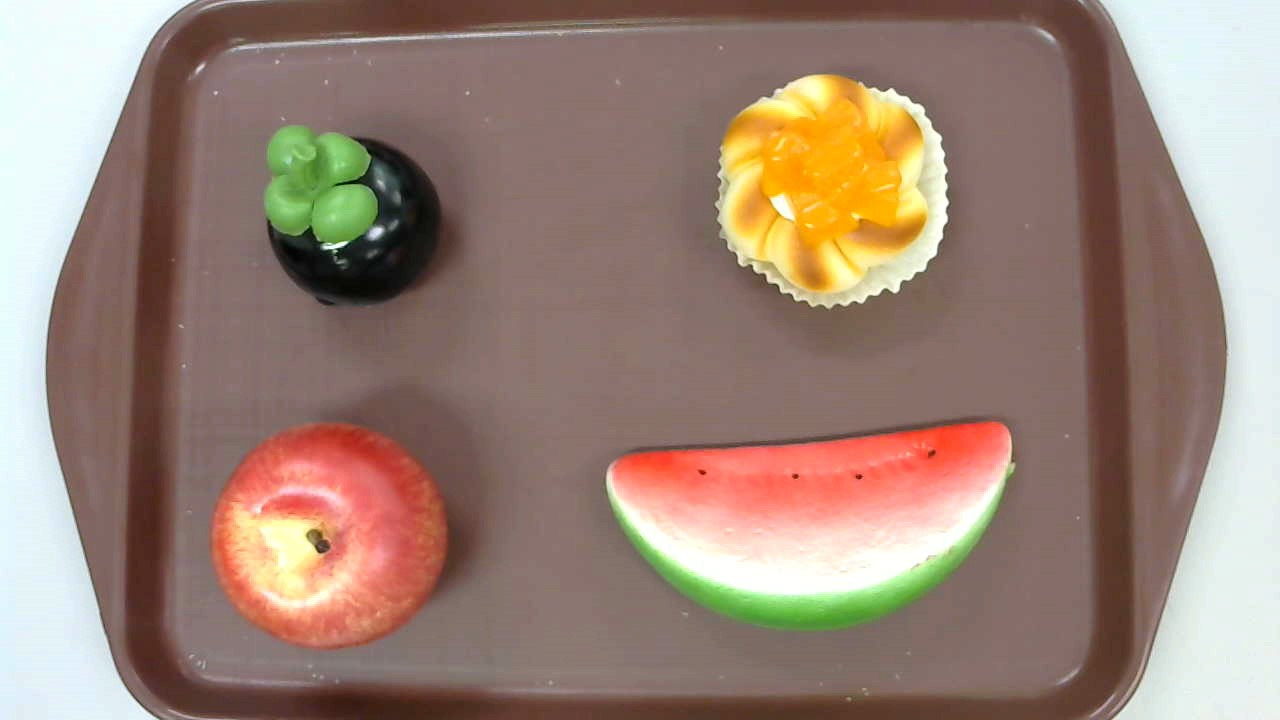mango tart: (714, 72, 950, 309)
mangosteen: (265, 125, 440, 309)
red apple: (209, 420, 447, 651)
water melon: (605, 420, 1015, 634)
